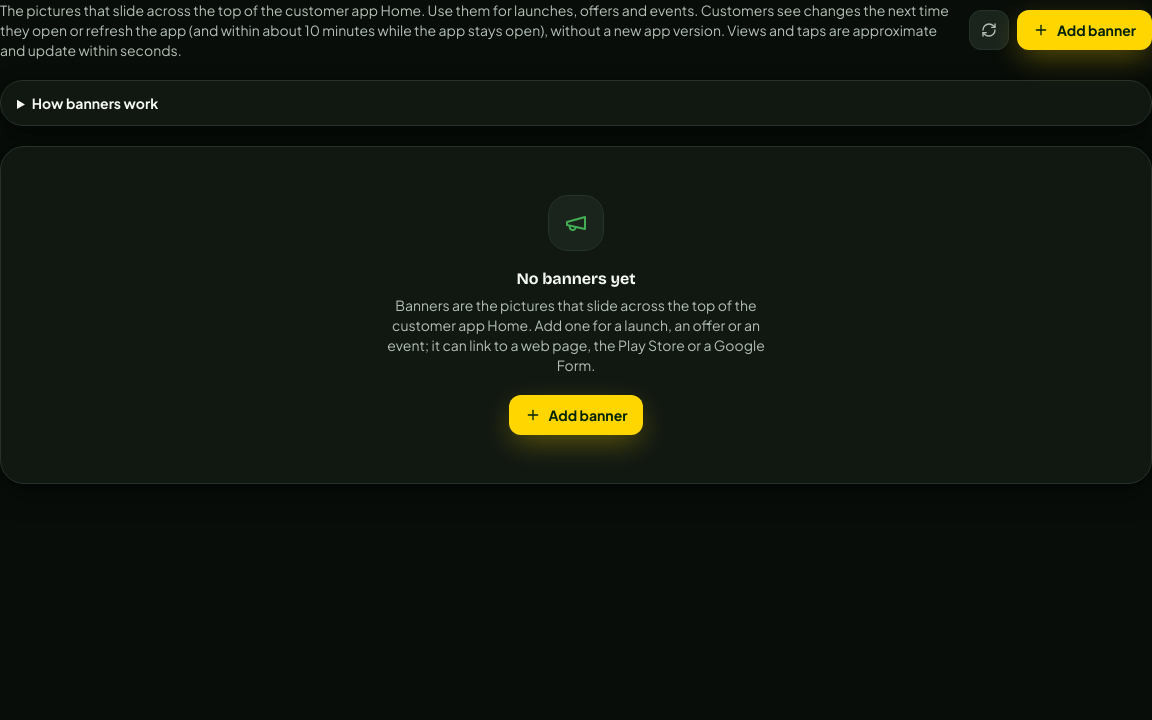
Test: BannersPanel list › an empty list explains banners and offers the first one
Expected: the button named "Reload banners" is shown, 969,10 -> 1009,50
Step 1. Click the button "Add banner" below "No banners yet" → (576, 415), box 508,395 -> 643,435
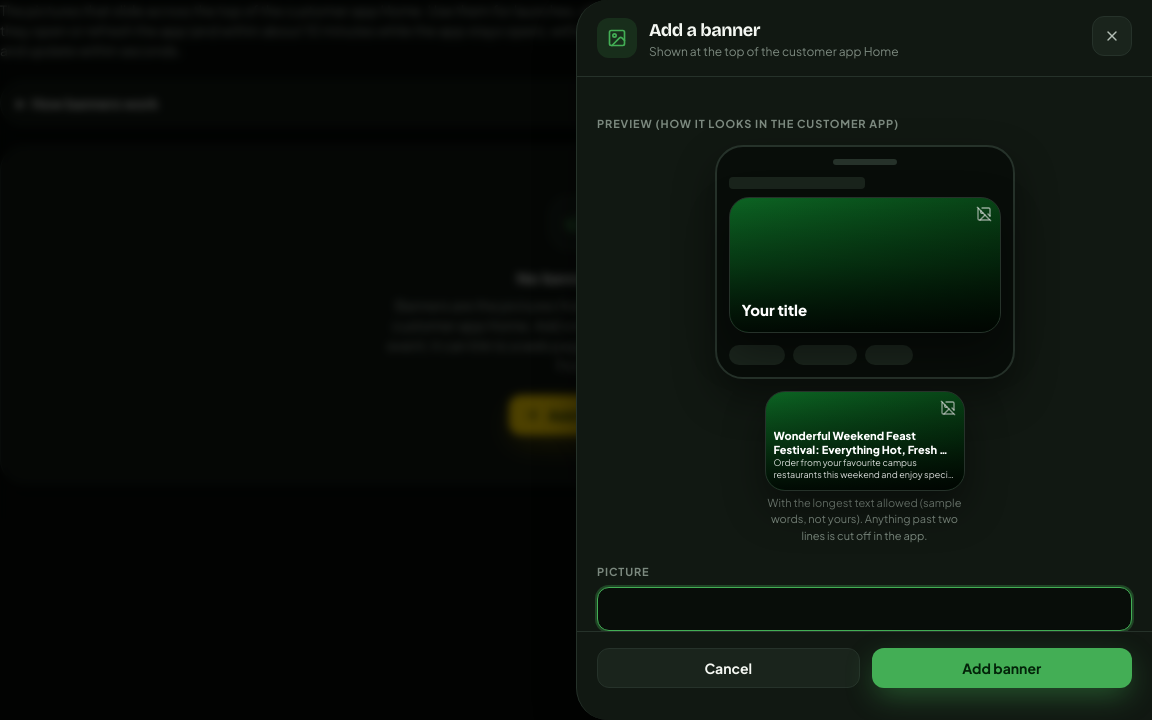
Expected: the heading "Add a banner" is shown, 649,19 -> 760,41
